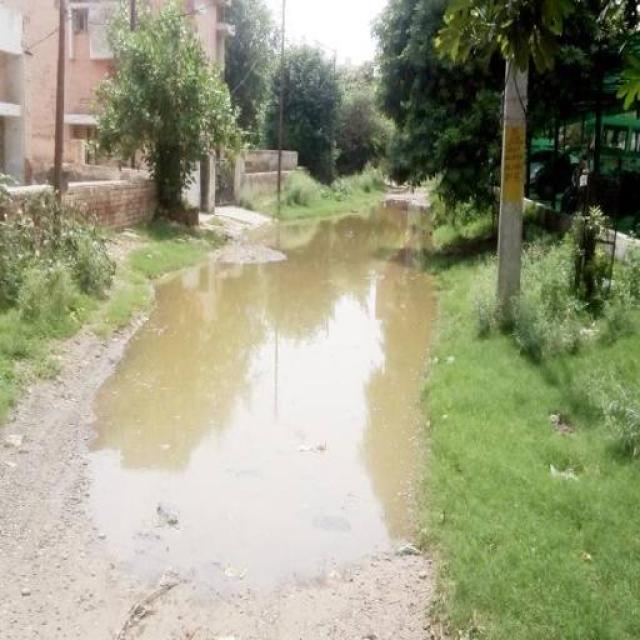puddle: (109, 348, 429, 537), (274, 213, 424, 386), (170, 272, 331, 397)
